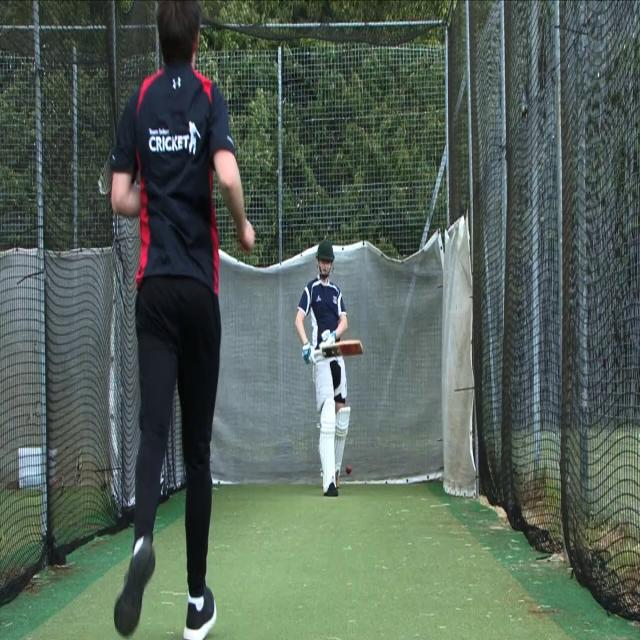batsman: (293, 238, 365, 499)
